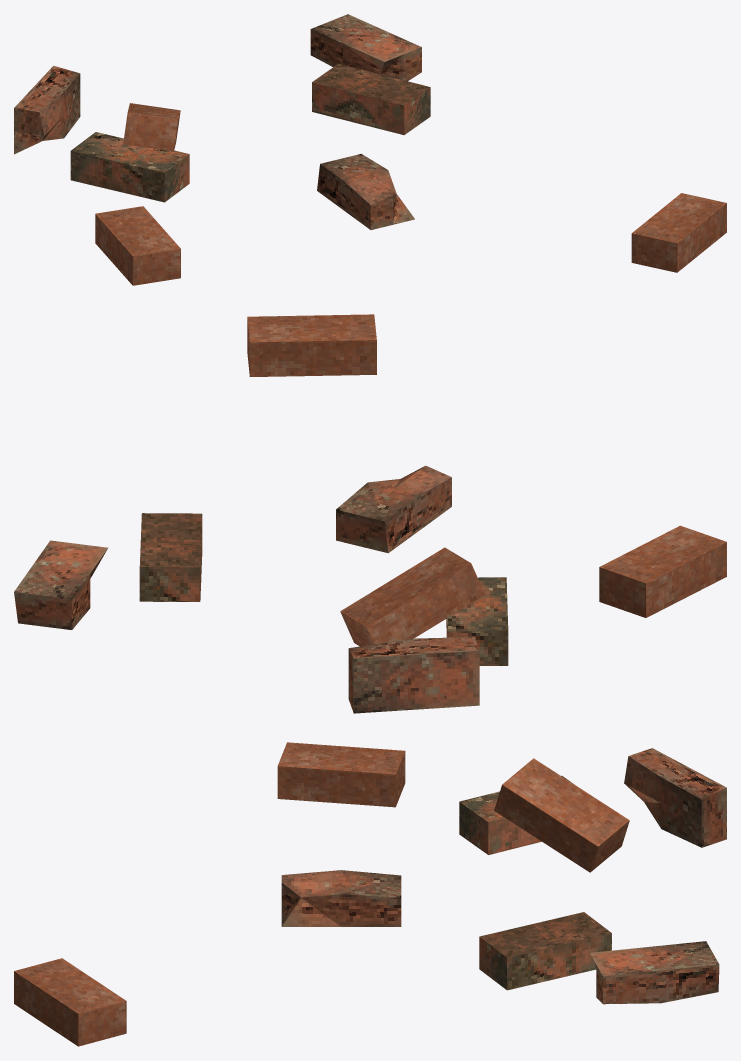
File: free_red_bricks_-_ps2_style_scattered_debris.glb
The picture shows the model from 3 angles, top to bottom: view 1: azimuth 30°, elevation 25°; view 2: azimuth 150°, elevation 25°; view 3: azimuth 270°, elevation 25°; orthographic projection. The views are drawn at different scales.
Visible parts, largest first — view 1: Cube.004, Cube.001, Cube.007, Cube, Cube.006, Cube.002, Cube.005, Cube.003; view 2: Cube.005, Cube.007, Cube.003, Cube, Cube.002, Cube.006, Cube.004, Cube.001; view 3: Cube.003, Cube, Cube.004, Cube.006, Cube.007, Cube.002, Cube.005, Cube.001.
Part boxes in pixels (x1=…): Cube.004: x1=312, y1=63, x2=430, y2=134; Cube.001: x1=70, y1=132, x2=189, y2=202; Cube.007: x1=631, y1=193, x2=726, y2=272; Cube: x1=95, y1=206, x2=180, y2=285; Cube.006: x1=310, y1=14, x2=421, y2=81; Cube.002: x1=317, y1=153, x2=414, y2=229; Cube.005: x1=14, y1=65, x2=80, y2=154; Cube.003: x1=123, y1=103, x2=180, y2=151; Cube.005: x1=348, y1=637, x2=479, y2=713; Cube.007: x1=247, y1=314, x2=376, y2=376; Cube.003: x1=340, y1=547, x2=484, y2=646; Cube: x1=599, y1=525, x2=726, y2=617; Cube.002: x1=336, y1=465, x2=451, y2=553; Cube.006: x1=14, y1=540, x2=107, y2=629; Cube.004: x1=139, y1=513, x2=202, y2=601; Cube.001: x1=446, y1=577, x2=508, y2=665; Cube.003: x1=494, y1=758, x2=629, y2=872; Cube: x1=277, y1=742, x2=405, y2=807; Cube.004: x1=479, y1=912, x2=611, y2=990; Cube.006: x1=590, y1=941, x2=719, y2=1004; Cube.007: x1=14, y1=958, x2=126, y2=1046; Cube.002: x1=281, y1=870, x2=401, y2=926; Cube.005: x1=624, y1=748, x2=726, y2=847; Cube.001: x1=459, y1=776, x2=572, y2=854.
Bounding box in the file's own units: 1.6 × 0.2048 × 1.78.
Materials: 3 (3 with a texture image).
